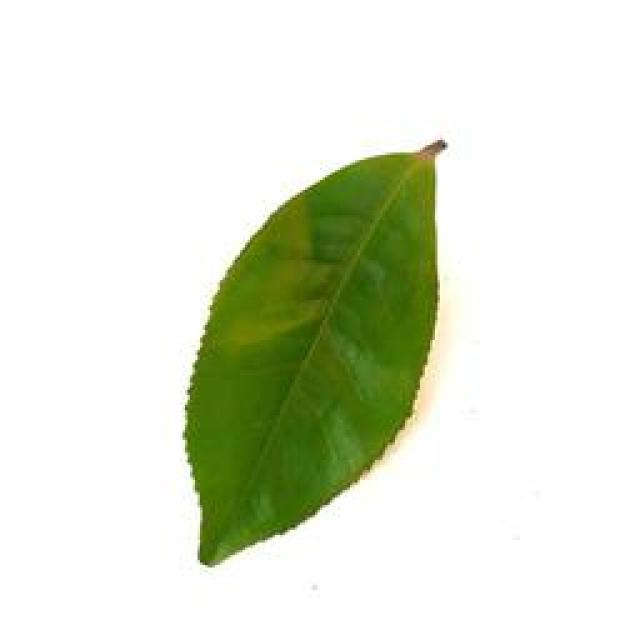Healthy: (178, 132, 456, 566)
